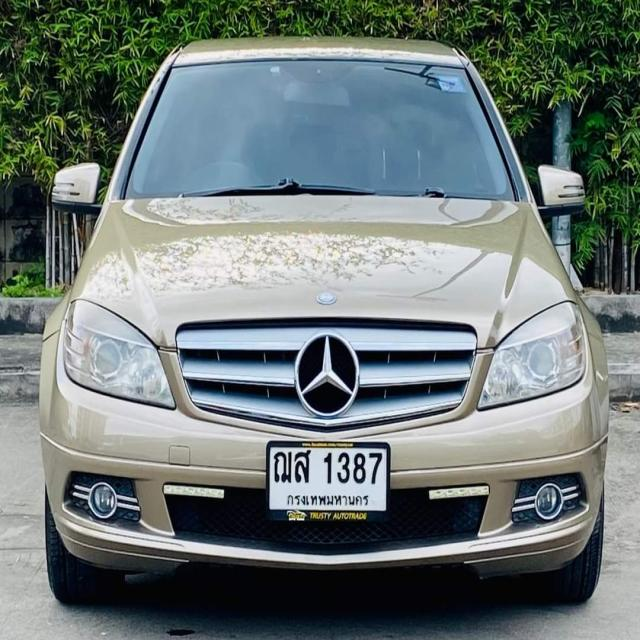license_plate: (264, 438, 391, 527)
